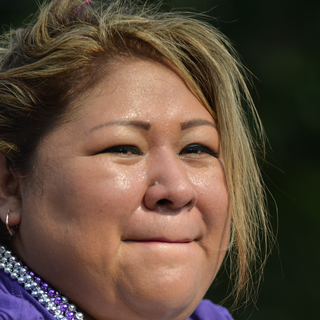eye: (94, 139, 147, 163), (174, 138, 219, 163)
